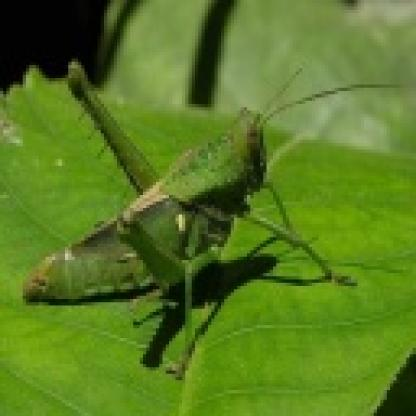grasshopper: (17, 64, 345, 305)
